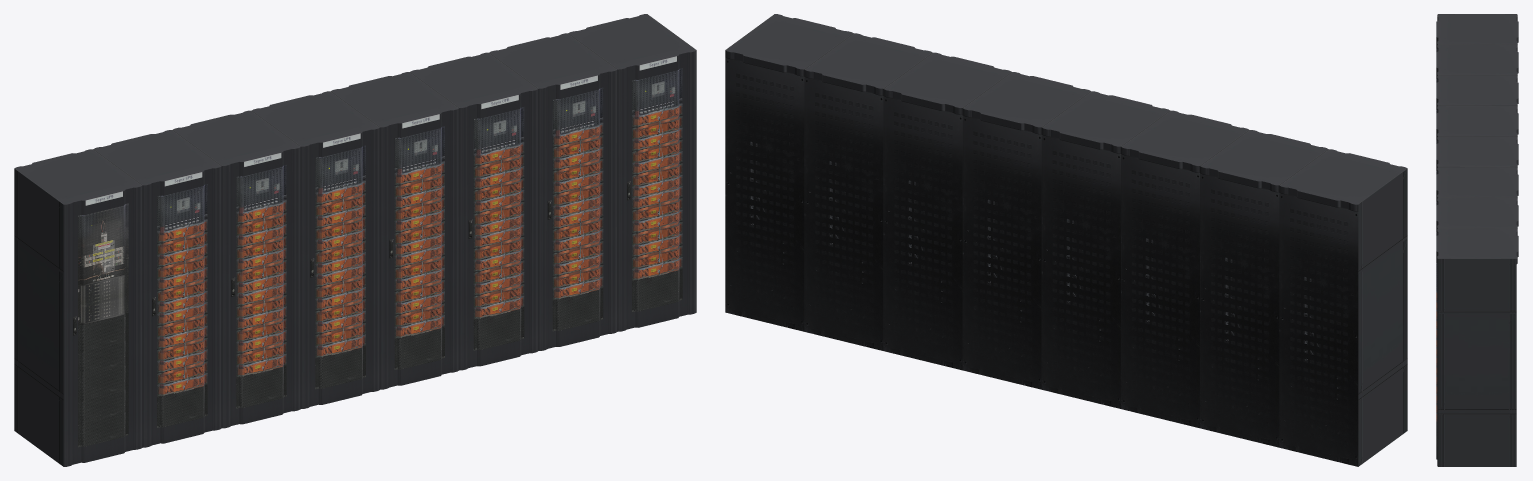
File: battery_module01.gltf
3 views of the same model, side by side, from view 1: azimuth 30°, elevation 25°; view 2: azimuth 150°, elevation 25°; view 3: azimuth 270°, elevation 25° (orthographic). The views are drawn at different scales.
Visible parts, largest first — view 1: battery, battery02; view 2: battery, battery02; view 3: battery, battery02.
Part boxes in pixels (x1,y1,x2,y2): battery: (93,14,696,447); battery02: (14,149,142,466); battery: (725,14,1328,447); battery02: (1279,149,1407,466); battery: (1436,44,1518,466); battery02: (1436,14,1518,51).
Bounding box in the file's own units: 48 × 19 × 6.8.
Materials: 2 (2 with a texture image).
